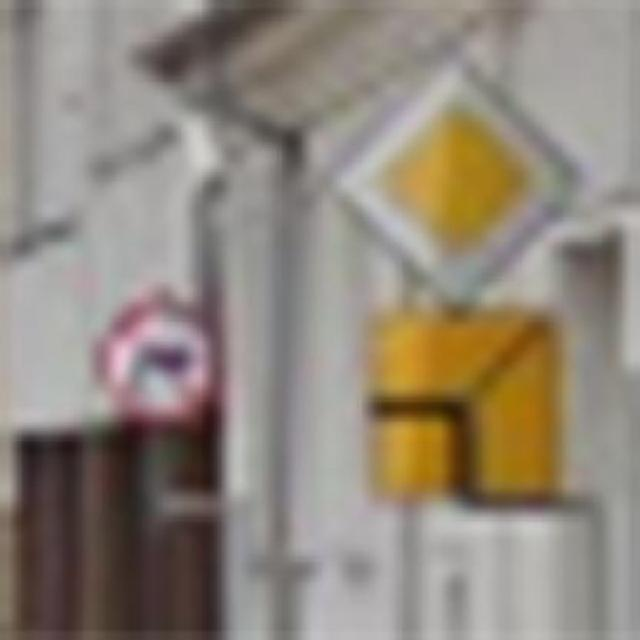Droga z pierwszenstwem: (330, 48, 584, 321)
